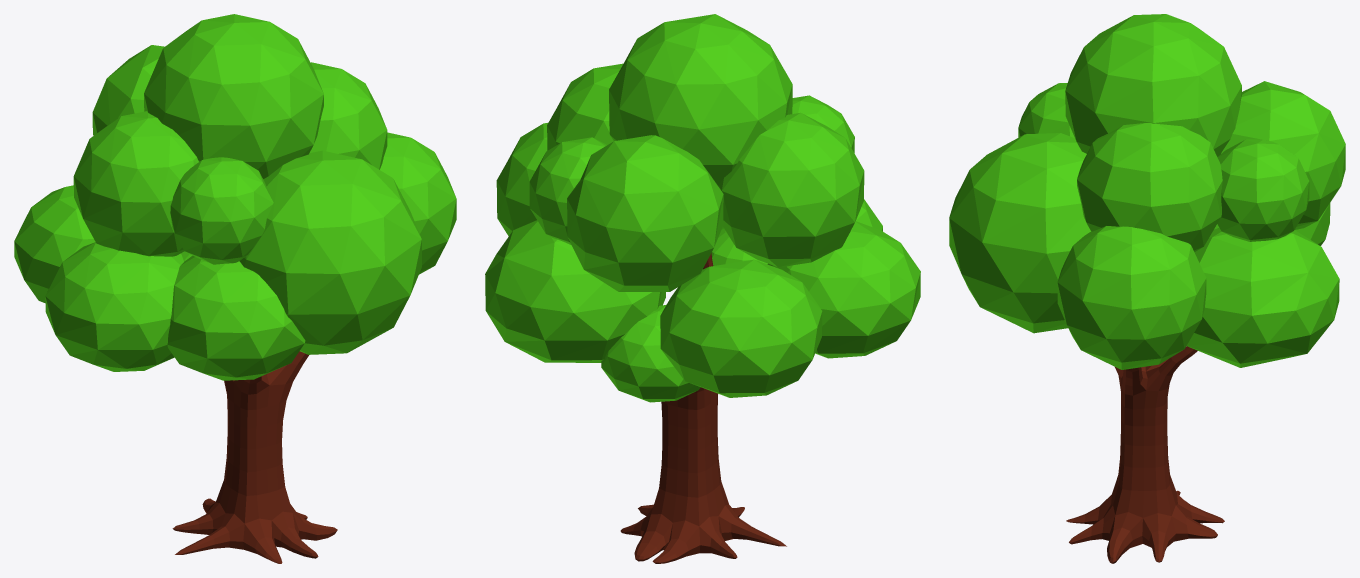
Rendered from tetitled.obj.
3 views of the same model, side by side, from view 1: azimuth 30°, elevation 25°; view 2: azimuth 150°, elevation 25°; view 3: azimuth 270°, elevation 25° (orthographic). The views are drawn at different scales.
Visible parts, largest first — view 1: Sphere.001; view 2: Sphere.001; view 3: Sphere.001.
Boxes of the visible parts, bbox=[...] form: Sphere.001: bbox=[14, 14, 456, 563]; Sphere.001: bbox=[485, 14, 920, 563]; Sphere.001: bbox=[949, 14, 1345, 563].
Size of the model in its own units: 0.7773 by 0.9738 by 0.6906.
